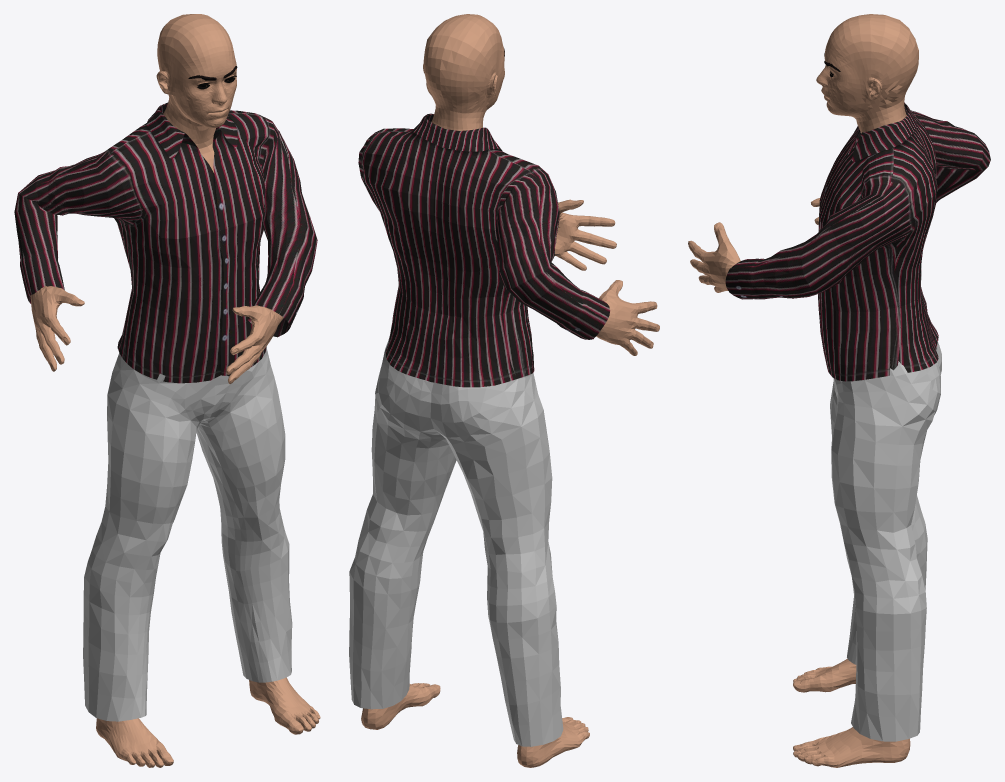
The model's file is pose.obj.
3 views of the same model, side by side, from view 1: azimuth 30°, elevation 25°; view 2: azimuth 150°, elevation 25°; view 3: azimuth 270°, elevation 25° (orthographic).
Parts seen in each view (by area): view 1: players:Shirt01, players:jeans01, players:Body; view 2: players:jeans01, players:Shirt01, players:Body; view 3: players:Shirt01, players:jeans01, players:Body.
Boxes of the visible parts, x1=… form: players:Shirt01: x1=14, y1=102, x2=317, y2=383; players:jeans01: x1=83, y1=348, x2=292, y2=721; players:Body: x1=30, y1=14, x2=320, y2=767; players:jeans01: x1=349, y1=336, x2=563, y2=746; players:Shirt01: x1=358, y1=113, x2=610, y2=387; players:Body: x1=361, y1=14, x2=659, y2=767; players:Shirt01: x1=725, y1=102, x2=990, y2=381; players:jeans01: x1=830, y1=342, x2=941, y2=741; players:Body: x1=688, y1=14, x2=918, y2=767.
Bounding box in the file's own units: 6.55 × 16.73 × 6.51.
